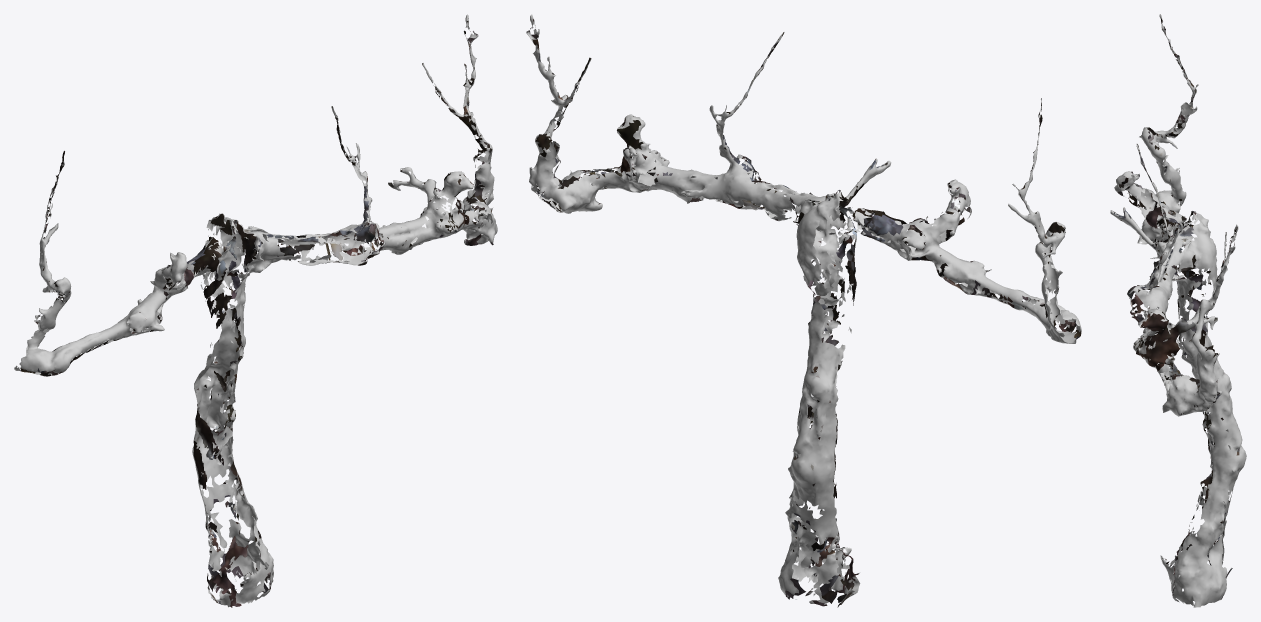
Rendered from Toke_3.obj.
3 views of the same model, side by side, from view 1: azimuth 30°, elevation 25°; view 2: azimuth 150°, elevation 25°; view 3: azimuth 270°, elevation 25° (orthographic). The views are drawn at different scales.
Size of the model in its own units: 309 by 301 by 75.17.
